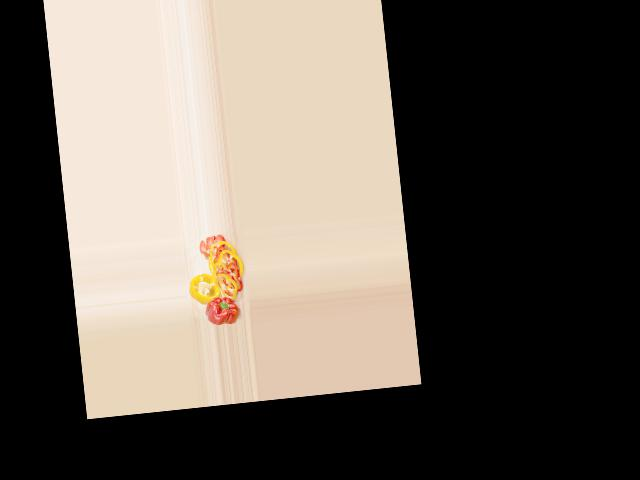bell_pepper: (186, 270, 220, 304)
